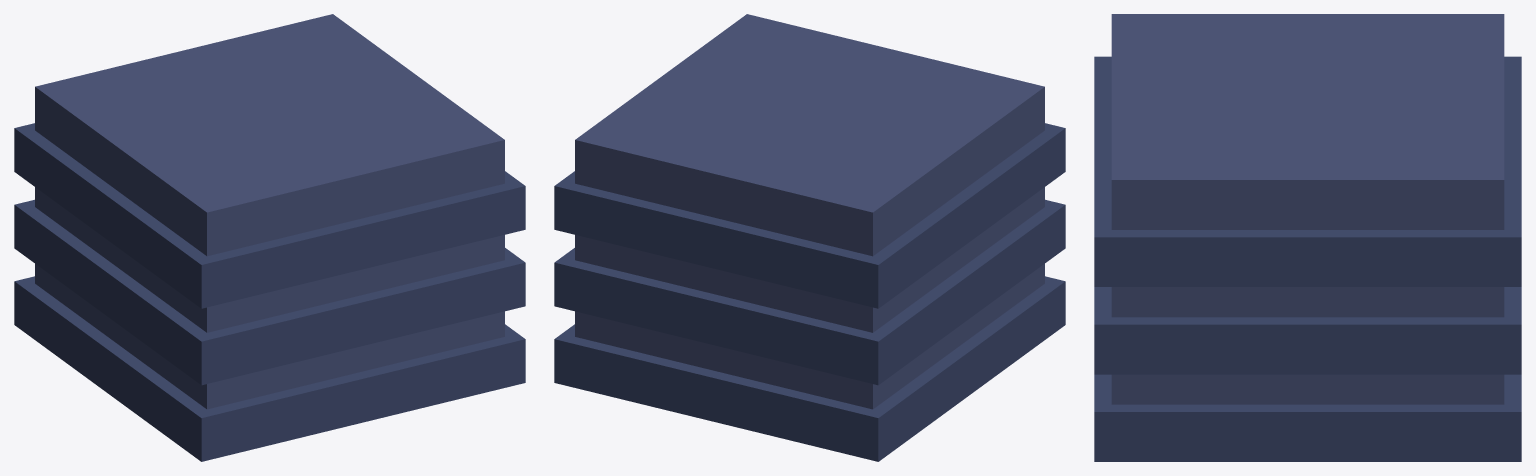
File: ninja_manga_inf.glb
The picture shows the model from 3 angles, left to right: view 1: azimuth 30°, elevation 25°; view 2: azimuth 150°, elevation 25°; view 3: azimuth 270°, elevation 25°; orthographic projection. The views are drawn at different scales.
Visible parts, largest first — view 1: ninja_manga_inf; view 2: ninja_manga_inf; view 3: ninja_manga_inf.
Boxes of the visible parts, x1,y1,x2,y2 form: ninja_manga_inf: [14, 14, 525, 461]; ninja_manga_inf: [554, 14, 1065, 461]; ninja_manga_inf: [1094, 14, 1521, 461].
Size of the model in its own units: 0.31 by 0.22 by 0.31.
